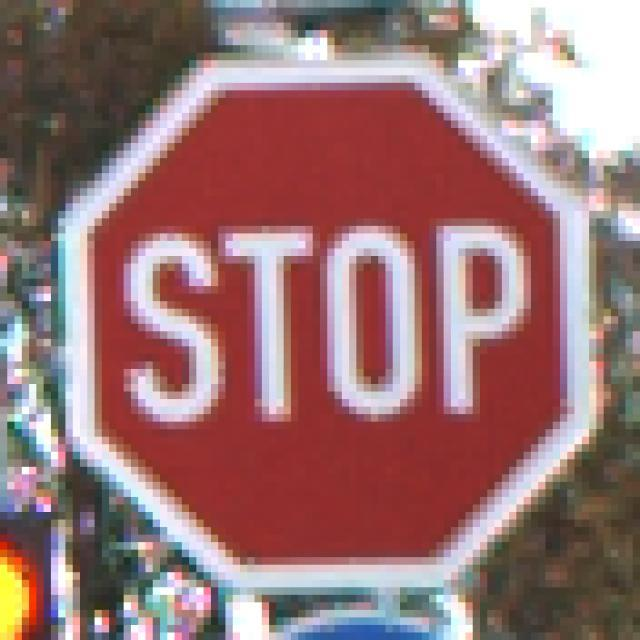stop: (59, 58, 601, 583)
